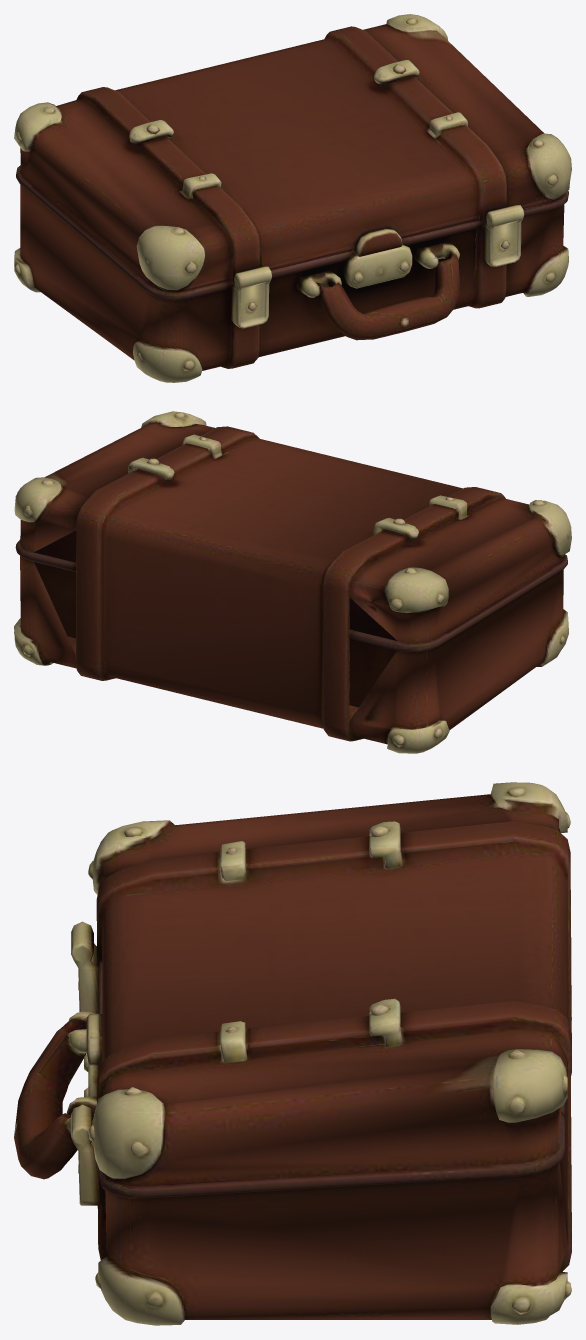
File: prop_suitcase.glb
The picture shows the model from 3 angles, top to bottom: view 1: azimuth 30°, elevation 25°; view 2: azimuth 150°, elevation 25°; view 3: azimuth 270°, elevation 25°; orthographic projection. The views are drawn at different scales.
Visible parts, largest first — view 1: tripo_node_5729cf3c-b256-4722-9ad9-58ae2d49ada3; view 2: tripo_node_5729cf3c-b256-4722-9ad9-58ae2d49ada3; view 3: tripo_node_5729cf3c-b256-4722-9ad9-58ae2d49ada3.
Boxes of the visible parts, x1=… form: tripo_node_5729cf3c-b256-4722-9ad9-58ae2d49ada3: x1=14, y1=14, x2=571, y2=382; tripo_node_5729cf3c-b256-4722-9ad9-58ae2d49ada3: x1=14, y1=411, x2=571, y2=753; tripo_node_5729cf3c-b256-4722-9ad9-58ae2d49ada3: x1=14, y1=782, x2=571, y2=1325.
Bounding box in the file's own units: 0.998 × 0.4121 × 0.7637.
1 material, 1 textured.
